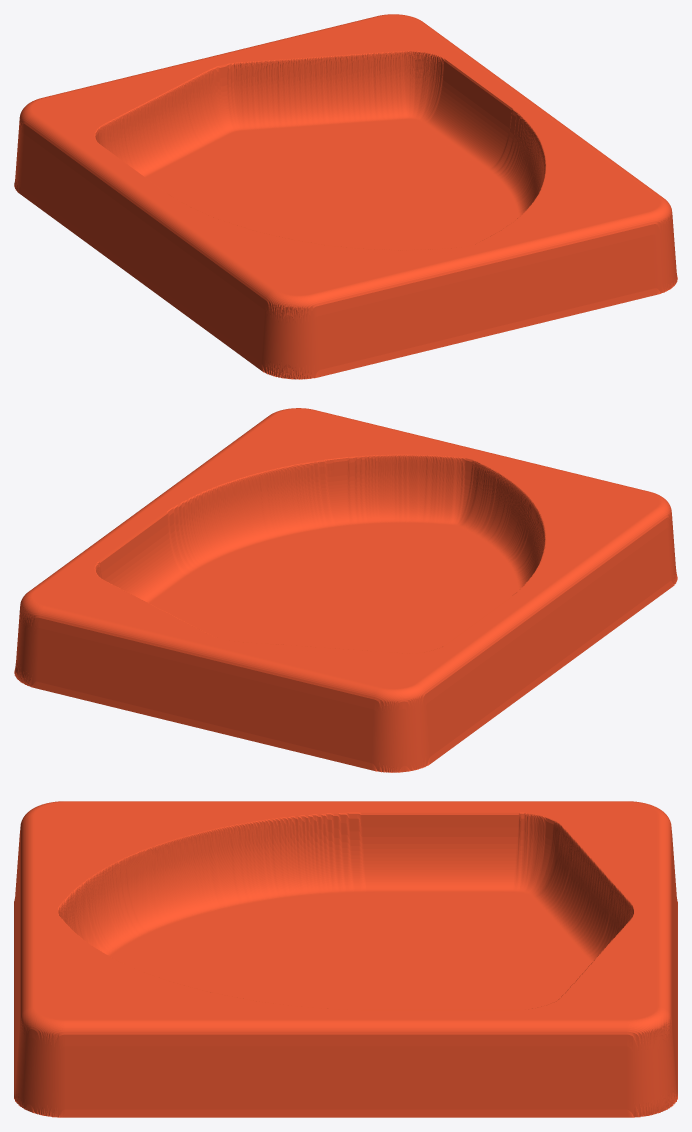
Rendered from mold.glb.
The picture shows the model from 3 angles, top to bottom: view 1: azimuth 30°, elevation 25°; view 2: azimuth 150°, elevation 25°; view 3: azimuth 270°, elevation 25°; orthographic projection. The views are drawn at different scales.
Visible parts, largest first — view 1: geometry_0; view 2: geometry_0; view 3: geometry_0.
Boxes of the visible parts, <box> form: geometry_0: <box>14,14,677,379</box>; geometry_0: <box>14,408,677,772</box>; geometry_0: <box>14,801,677,1117</box>.
Bounding box in the file's own units: 0.0984 × 0.0175 × 0.1178.
